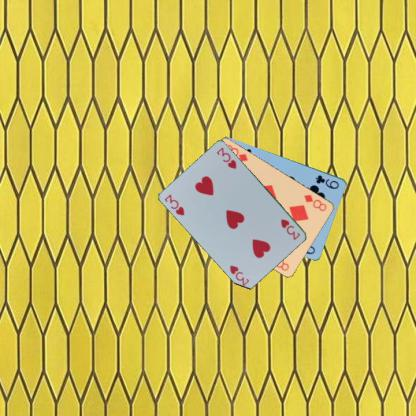3h: (162, 192, 186, 216), (278, 217, 301, 241)
8d: (302, 192, 328, 212)
9c: (313, 172, 340, 190)
